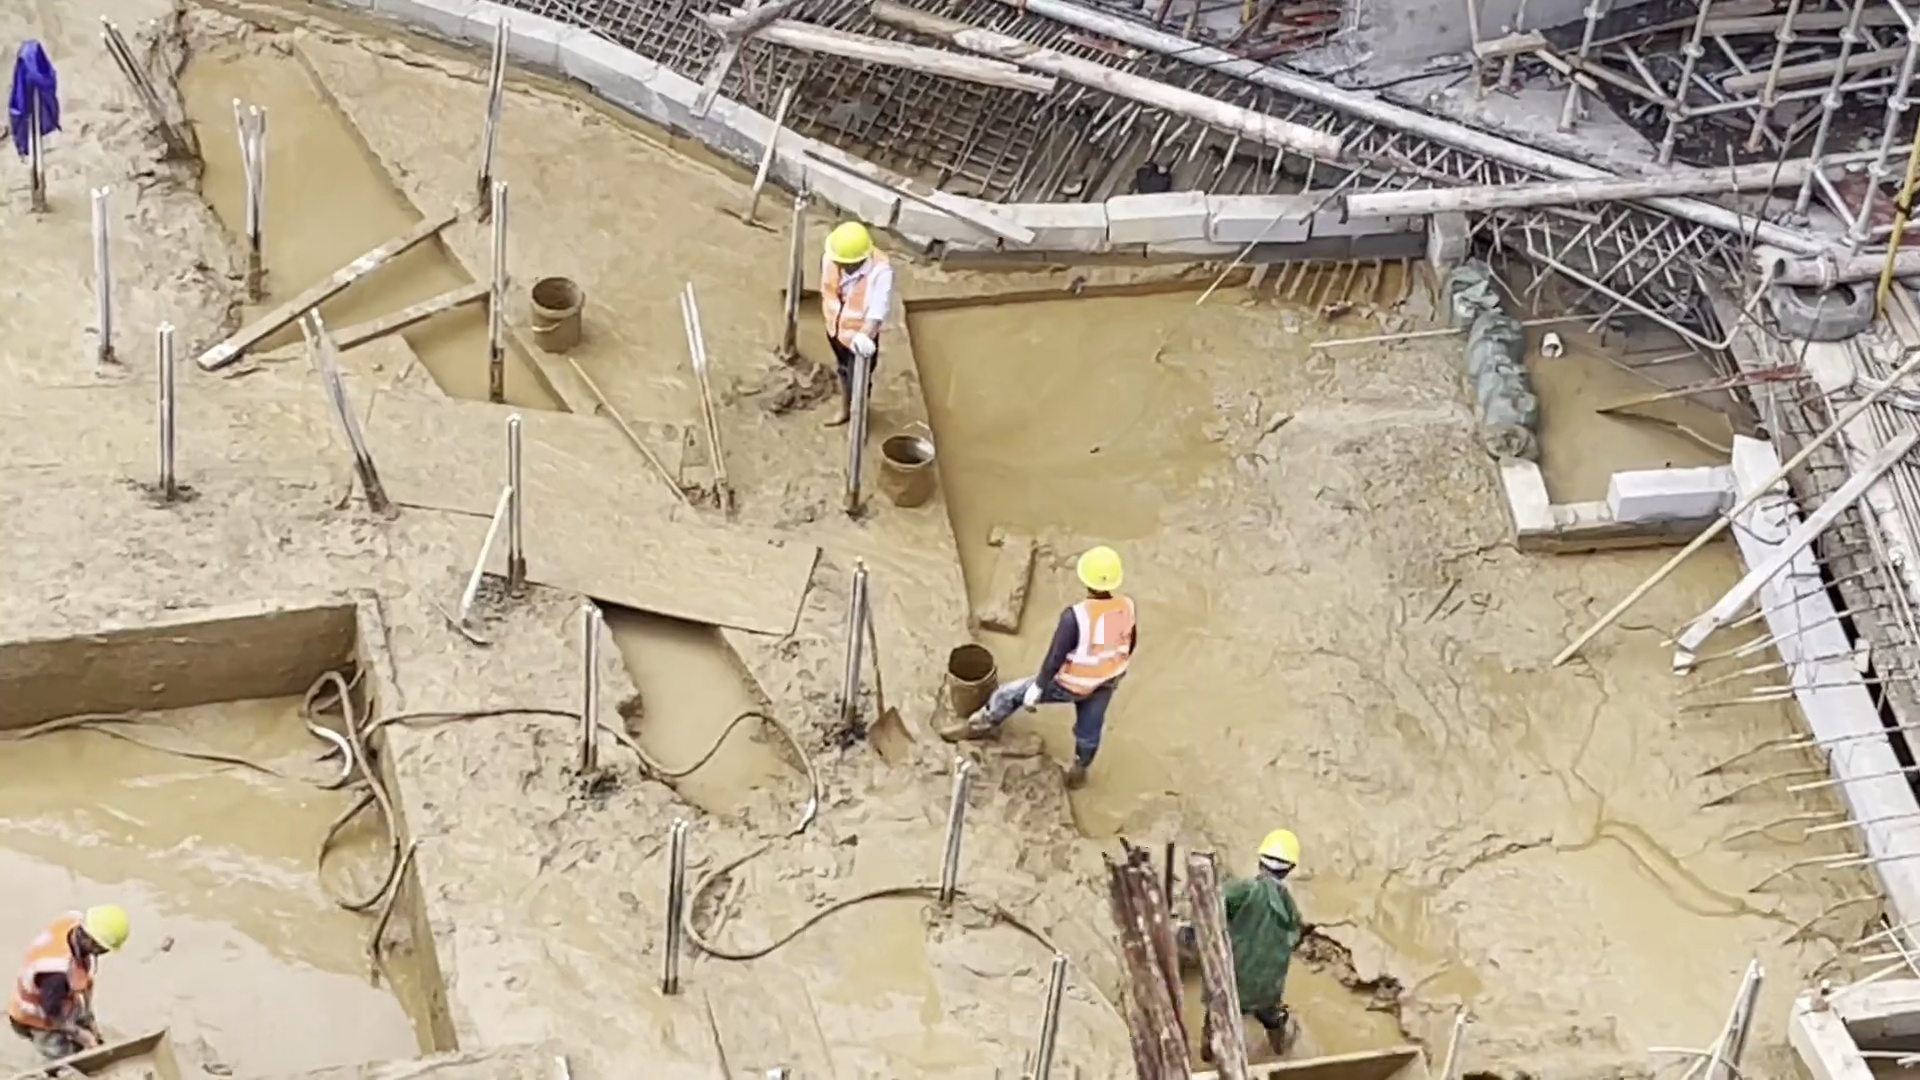helmet: (80, 897, 140, 949), (1071, 549, 1126, 597), (818, 220, 873, 265), (1256, 823, 1308, 869)
person: (1200, 824, 1323, 1060), (1048, 538, 1144, 800), (4, 901, 133, 1080), (815, 212, 897, 432)
vest: (3, 923, 81, 1043), (1060, 598, 1136, 713), (819, 260, 886, 345)
